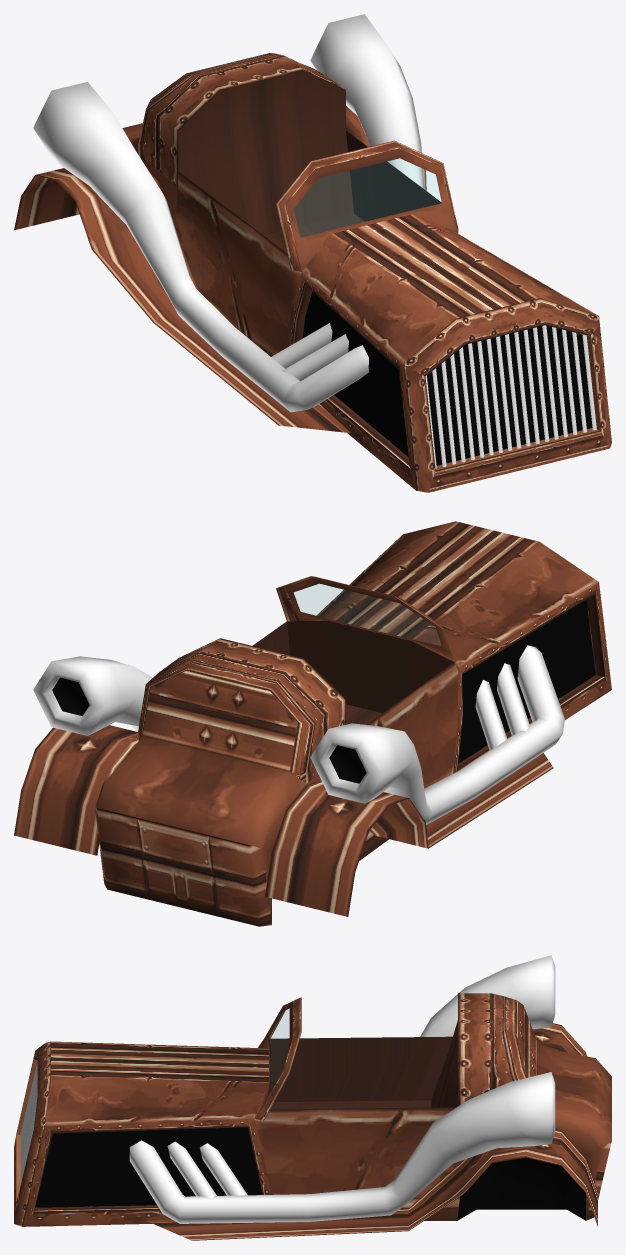
File: car_roadster_body.glb
3 views of the same model, one above another, from view 1: azimuth 30°, elevation 25°; view 2: azimuth 150°, elevation 25°; view 3: azimuth 270°, elevation 25° (orthographic). The views are drawn at different scales.
Visible parts, largest first — view 1: Cube, BezierCurve; view 2: Cube, BezierCurve; view 3: Cube, BezierCurve.
Boxes of the visible parts, x1=… form: Cube: x1=14, y1=53, x2=611, y2=492; BezierCurve: x1=33, y1=14, x2=424, y2=412; Cube: x1=14, y1=521, x2=611, y2=926; BezierCurve: x1=33, y1=645, x2=564, y2=824; Cube: x1=14, y1=993, x2=611, y2=1240; BezierCurve: x1=129, y1=955, x2=555, y2=1223.
Bounding box in the file's own units: 0.5323 × 0.294 × 0.9131.
4 materials, 3 textured.
